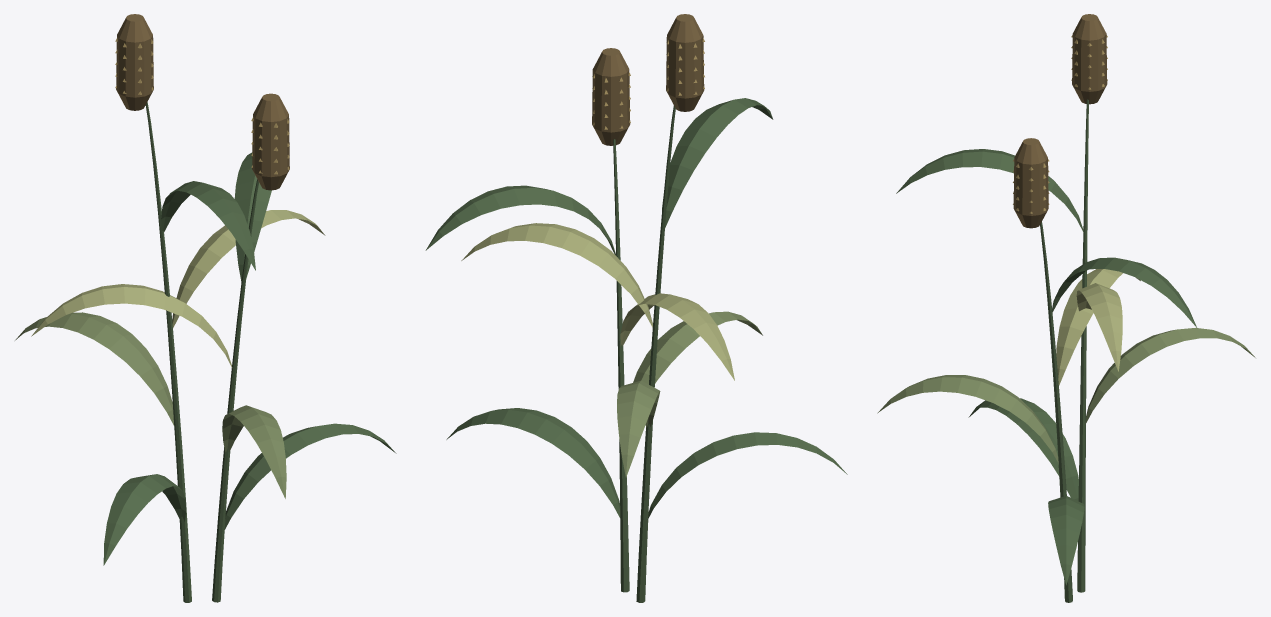
Rendered from OASIS_REED.hi.glb.
3 views of the same model, side by side, from view 1: azimuth 30°, elevation 25°; view 2: azimuth 150°, elevation 25°; view 3: azimuth 270°, elevation 25° (orthographic). The views are drawn at different scales.
Visible parts, largest first — view 1: OASIS_REED; view 2: OASIS_REED; view 3: OASIS_REED.
Part boxes in pixels (x1,y1,x2,y2): OASIS_REED: [15, 14, 396, 602]; OASIS_REED: [425, 14, 847, 602]; OASIS_REED: [877, 14, 1255, 602].
Bounding box in the file's own units: 0.5291 × 0.8654 × 0.5399.
Materials: 1 (1 with a texture image).
